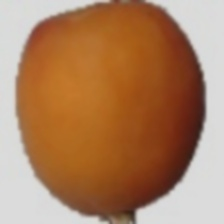apricot: (42, 47, 212, 208)
